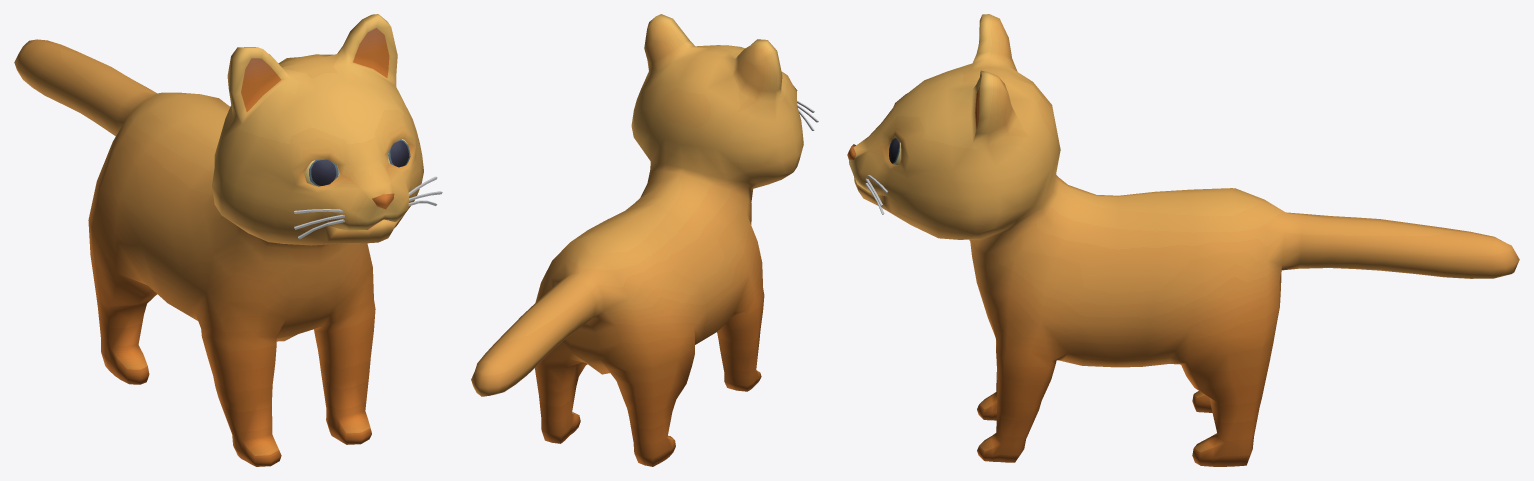
Rendered from toon-cat-free-b2bd1e.glb.
The picture shows the model from 3 angles, left to right: view 1: azimuth 30°, elevation 25°; view 2: azimuth 150°, elevation 25°; view 3: azimuth 270°, elevation 25°; orthographic projection. The views are drawn at different scales.
Parts seen in each view (by area): view 1: PropMesh; view 2: PropMesh; view 3: PropMesh.
Boxes of the visible parts, <box> form: PropMesh: <box>14,14,442,466</box>; PropMesh: <box>471,14,818,466</box>; PropMesh: <box>847,14,1519,466</box>.
Size of the model in its own units: 1.07 by 2.2 by 3.42.
Materials: 1 (1 with a texture image).
